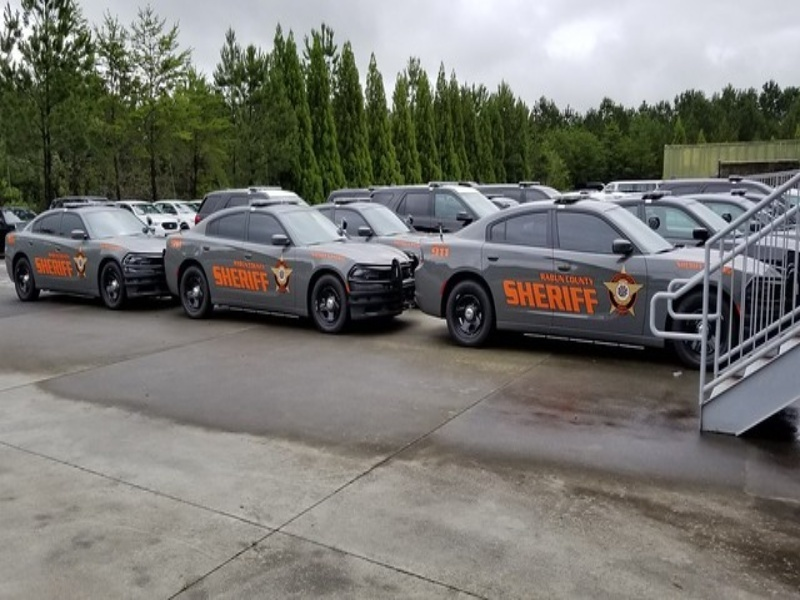policecar: (424, 210, 637, 356), (188, 209, 416, 334), (10, 203, 160, 311)
